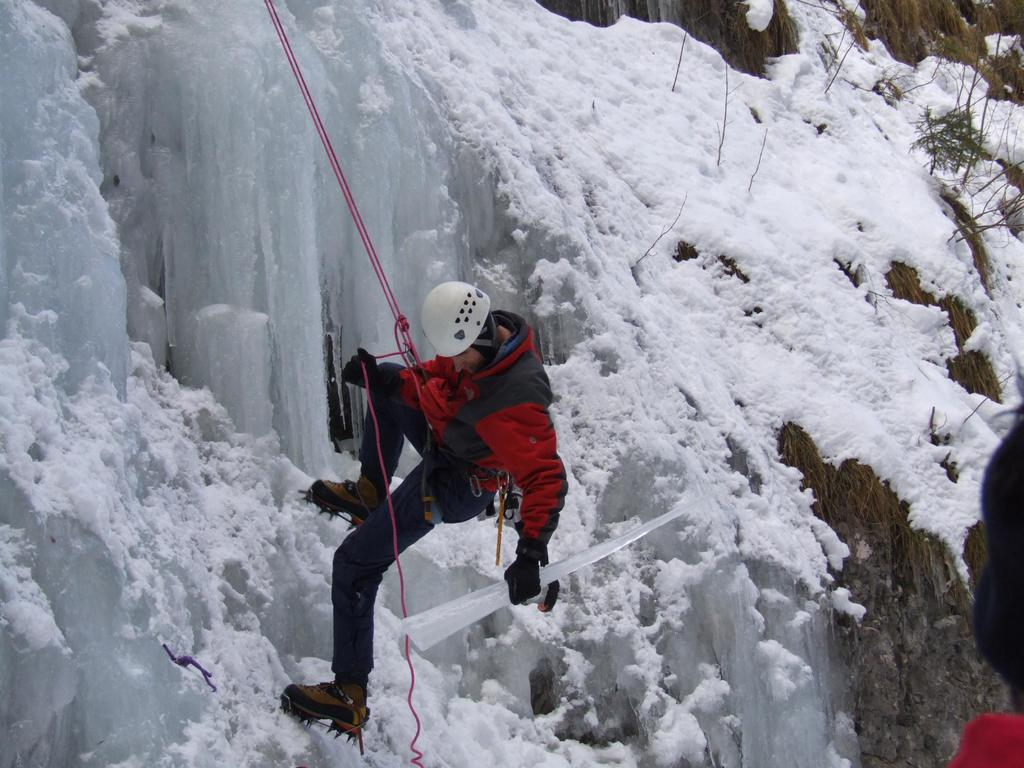Person: (279, 281, 569, 742)
